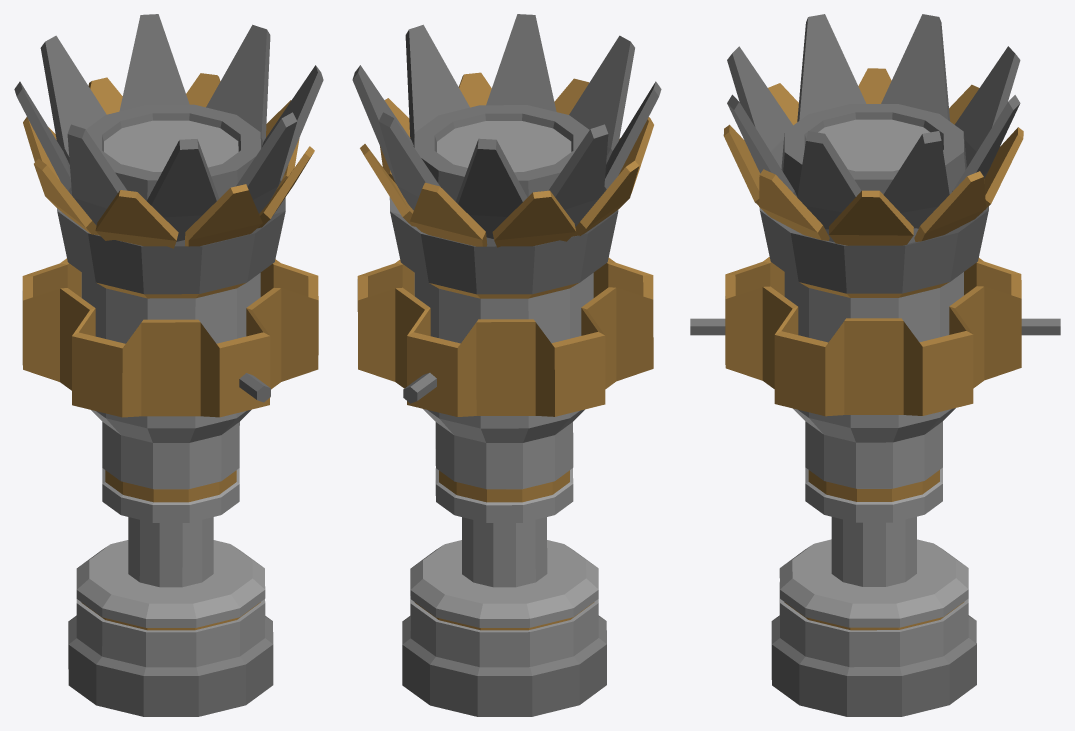
3 renders of one model, left to right at view 1: azimuth 30°, elevation 25°; view 2: azimuth 150°, elevation 25°; view 3: azimuth 270°, elevation 25°, orthographic.
Visible parts, largest first — view 1: Props_Statue; view 2: Props_Statue; view 3: Props_Statue.
Part boxes in pixels (left/top/right/bottom): Props_Statue: left=14, top=14, right=323, bottom=716; Props_Statue: left=352, top=14, right=661, bottom=716; Props_Statue: left=690, top=14, right=1060, bottom=716.
Bounding box in the file's own units: 1.18 × 2.61 × 1.46.
